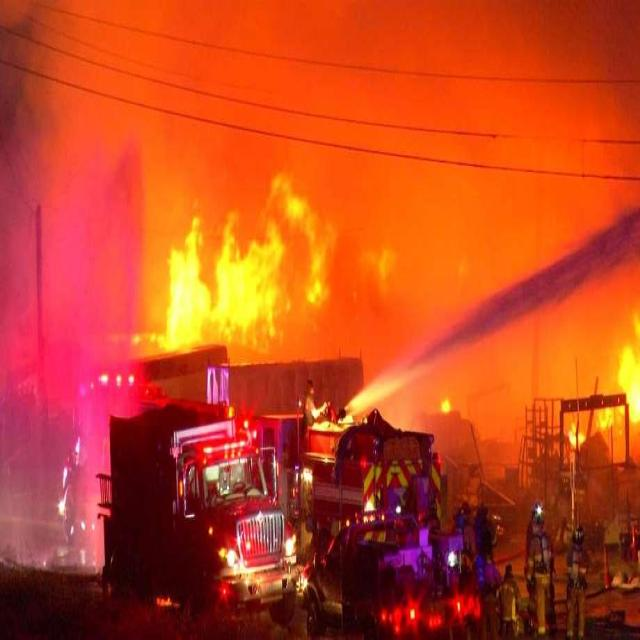Fire: (128, 168, 348, 343), (565, 312, 640, 438)
